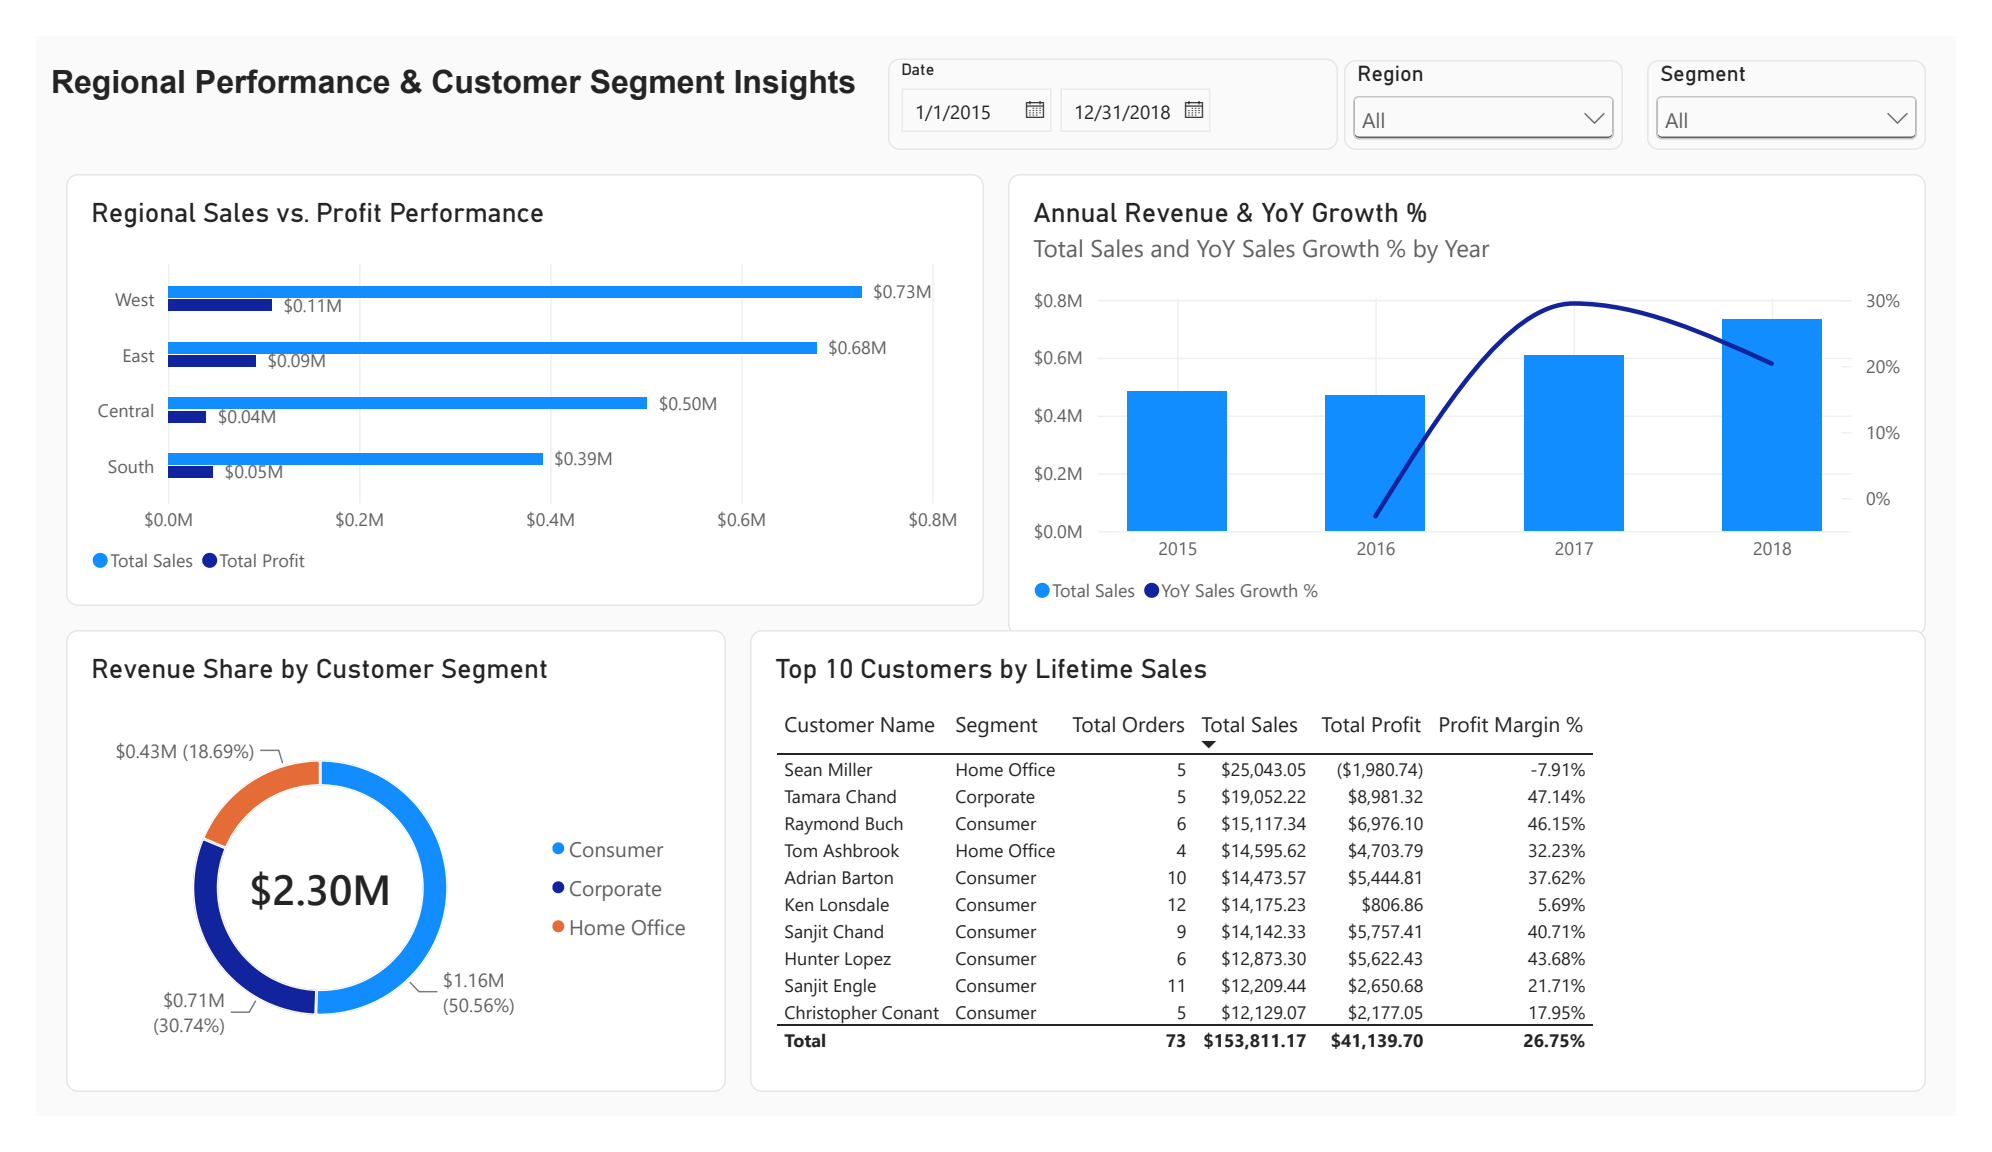

The page's visual inventory and layout, read from the dashboard file:
{"tool":"powerbi","page":{"name":"Regional & Customer Insights","canvas":[1280,720],"ordinal":2},"visuals":[{"type":"textbox","box":[9.6,0,546.9,74.6],"z":0},{"type":"slicer","fields":{"Values":["Dim_Date.Date"]},"box":[568,15.3,300.2,61],"z":1000},{"type":"slicer","fields":{"Values":["Fact_Orders.Region"]},"box":[872,16,186,60],"z":2000},{"type":"slicer","fields":{"Values":["Dim_Customer.Segment"]},"box":[1074,16,186,60],"z":3000},{"type":"clusteredBarChart","title":"Regional Sales vs. Profit Performance","fields":{"Category":["Fact_Orders.Region"],"Y":["_Measure.Total Sales","_Measure.Total Profit"]},"box":[20,92,612,288],"z":4000},{"type":"lineClusteredColumnComboChart","title":"Annual Revenue & YoY Growth %","fields":{"Category":["Dim_Date.Year"],"Y":["_Measure.Total Sales"],"Y2":["_Measure.YoY Sales Growth %"]},"box":[648,92,612,308],"z":5000},{"type":"donutChart","title":"Revenue Share by Customer Segment","fields":{"Category":["Dim_Customer.Segment"],"Y":["_Measure.Total Sales"]},"box":[20,396,440,308],"z":6000},{"type":"tableEx","title":"Top 10 Customers by Lifetime Sales","fields":{"Values":["Dim_Customer.Customer Name","Dim_Customer.Segment","_Measure.Total Orders","_Measure.Total Sales","_Measure.Total Profit","_Measure.Profit Margin %"]},"box":[476,396,784,308],"z":7000}]}

Visuals, with their boxes in screenshot pixels (x1, y1, x2, y2), scaled from the page's 1280x720 canvas onto the 1992x1152 screenshot:
textbox: [15,0,866,119]
slicer - Dim_Date.Date: [884,24,1351,122]
slicer - Fact_Orders.Region: [1357,26,1647,122]
slicer - Dim_Customer.Segment: [1671,26,1961,122]
"Regional Sales vs. Profit Performance" clusteredBarChart: [31,147,984,608]
"Annual Revenue & YoY Growth %" lineClusteredColumnComboChart: [1008,147,1961,640]
"Revenue Share by Customer Segment" donutChart: [31,634,716,1126]
"Top 10 Customers by Lifetime Sales" tableEx: [741,634,1961,1126]
